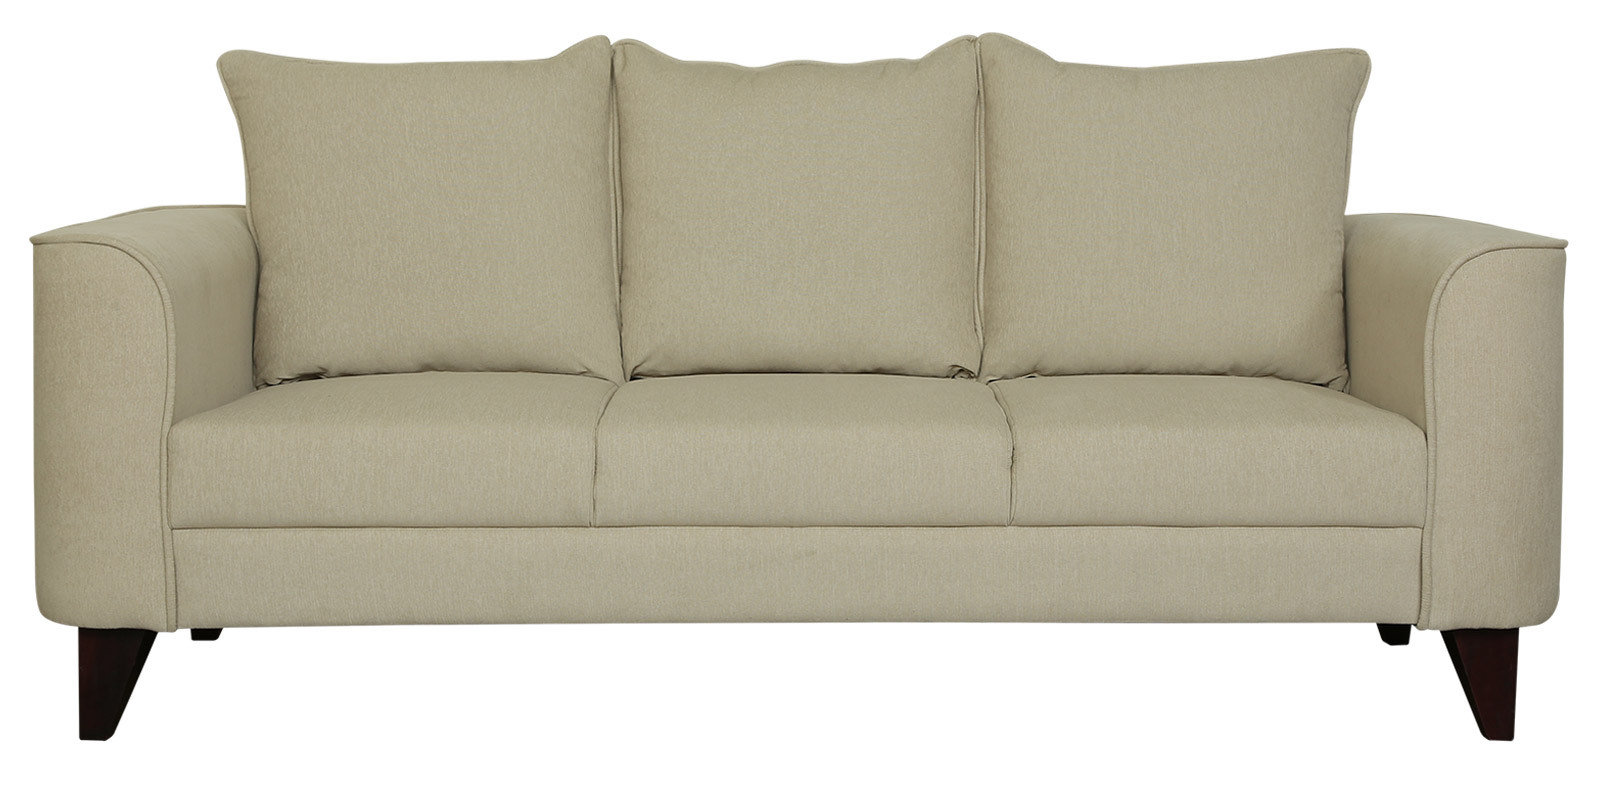Lara Three Seater Sofa in Beige Colour by CasaCraft: (32, 34, 1571, 741)
